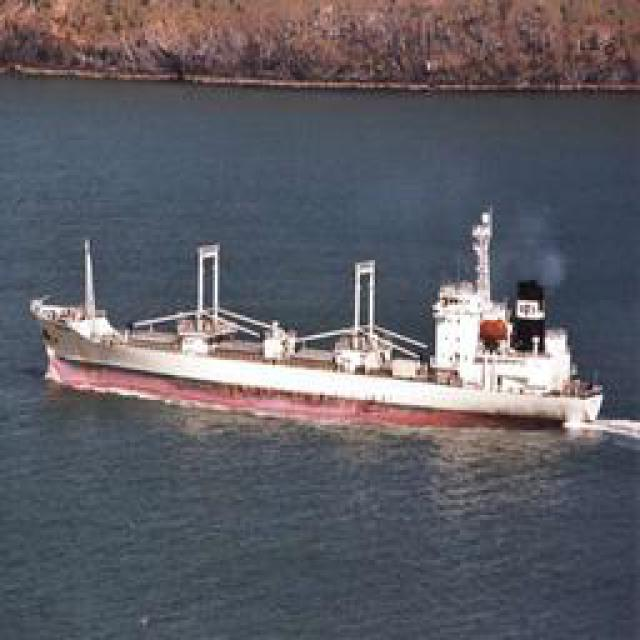Ship: (17, 236, 607, 444)
